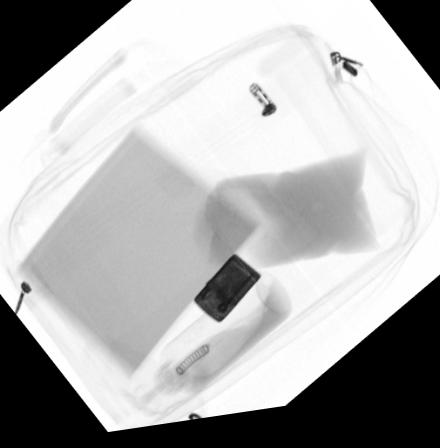Lighter: (192, 259, 262, 328)
